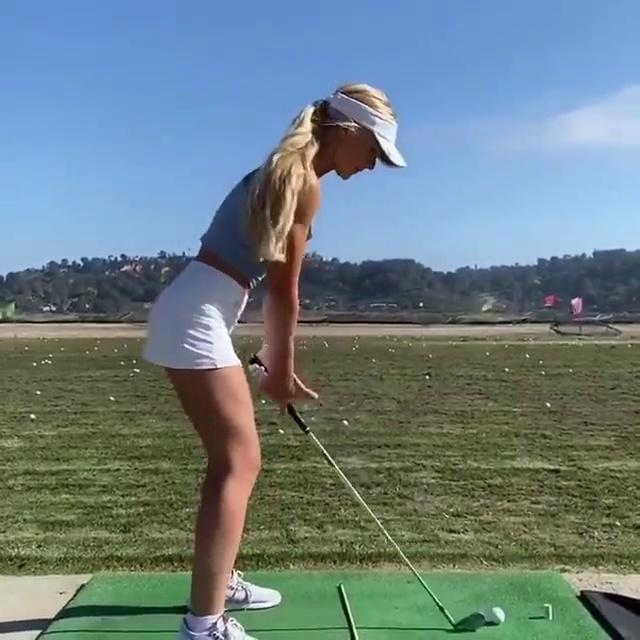ClubHead: (454, 611, 485, 633)
GolfBall: (490, 606, 504, 624)
